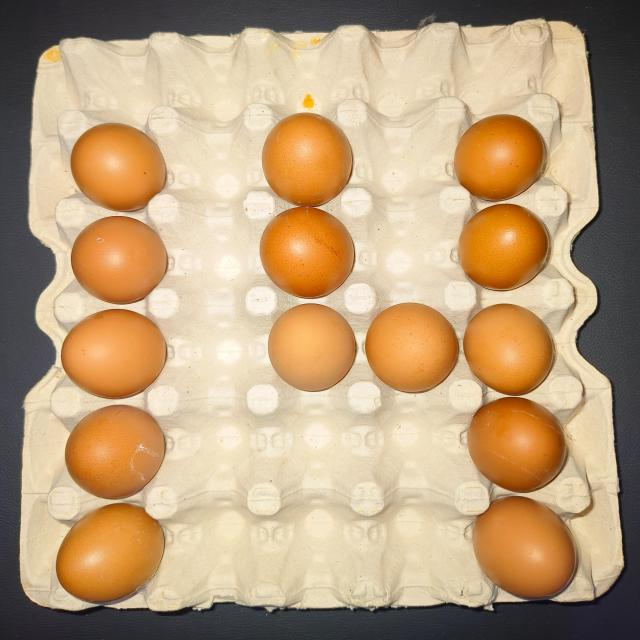Eggs: (472, 503, 591, 605), (58, 402, 184, 498), (59, 296, 169, 402), (261, 202, 368, 306), (53, 501, 168, 594), (448, 101, 550, 204), (458, 195, 554, 300), (471, 398, 578, 490), (66, 215, 173, 306), (371, 296, 464, 396), (257, 100, 350, 198), (69, 121, 165, 210), (271, 301, 357, 400), (470, 303, 558, 392)
